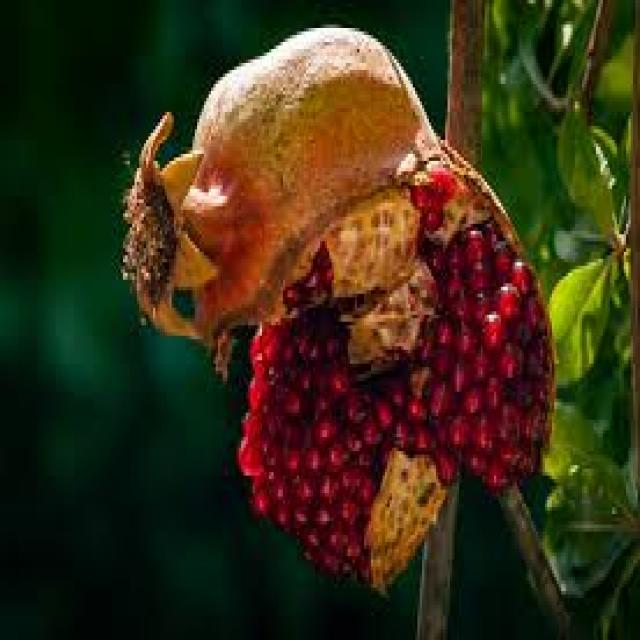overripe: (116, 22, 563, 591)
